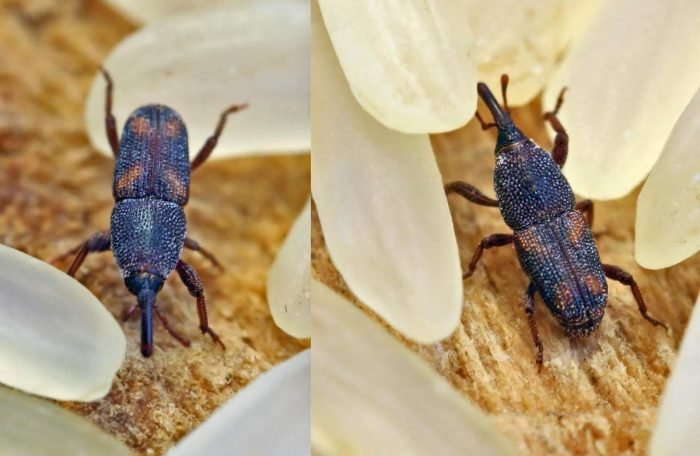dolgonosik: (437, 65, 665, 368), (80, 59, 237, 364)
